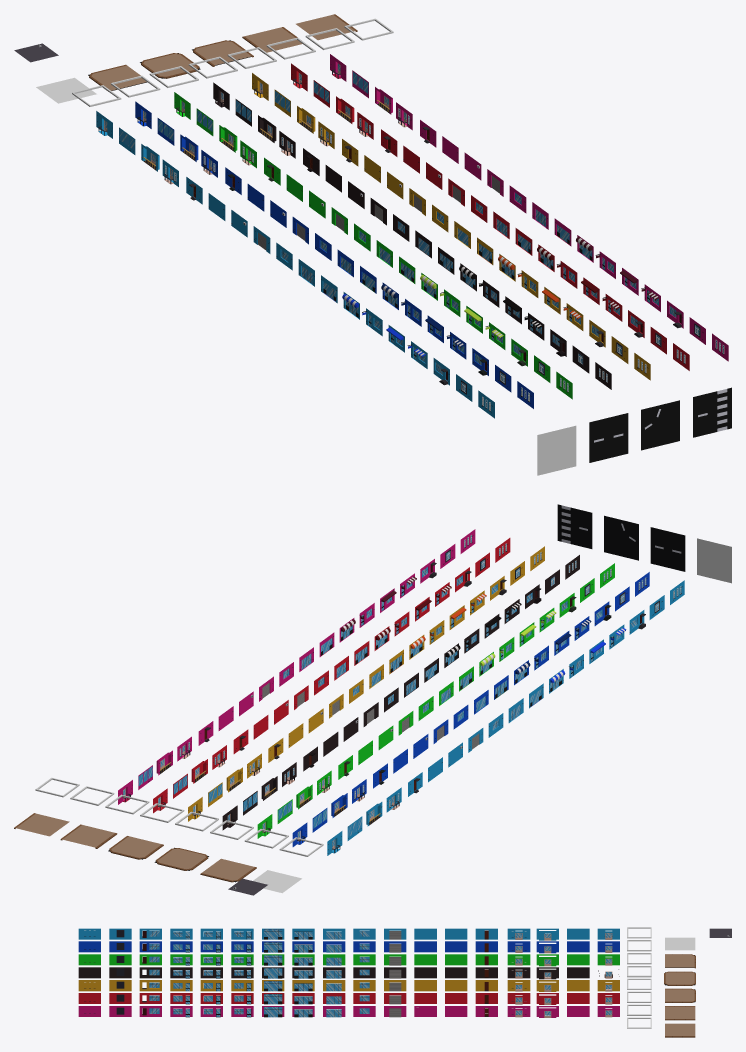
Rendered from city assets.FBX.
3 views of the same model, one above another, from view 1: azimuth 30°, elevation 25°; view 2: azimuth 150°, elevation 25°; view 3: azimuth 270°, elevation 25° (orthographic). The views are drawn at different scales.
Parts seen in each view (by area): view 1: Street_Straight, Street_Empty, Street_Turn, Street_CrossLine, CM_Pavement4, CM_Pavement3, CM_Pavement23, CM_Pavement22, CM_Pavement0, CM_Pavement11; view 2: Street_CrossLine, Street_Straight, Street_Empty, Street_Turn, CM_Pavement4, CM_Pavement3, CM_Pavement23, CM_Pavement22, CM_Pavement11, CM_Pavement0; view 3: CM_Pavement4, CM_Pavement11, CM_Pavement22, CM_Pavement3, CM_Pavement0, CM_Pavement23, CM_Wallside_Balcony02_Grey, CM_Wallside_Balcony03_Blue, CM_Wallside_Balcony03_Green, CM_Wallside_Balcony03_BlueGreen, CM_Wallside_Balcony03_Grey, CM_Wallside_Balcony03_Orange (+120 smaller).
Part boxes in pixels (left/top/right/bottom): Street_Straight: left=589, top=413, right=628, bottom=462; Street_Empty: left=537, top=425, right=576, bottom=475; Street_Turn: left=641, top=400, right=679, bottom=450; Street_CrossLine: left=693, top=387, right=731, bottom=437; CM_Pavement4: left=140, top=53, right=200, bottom=78; CM_Pavement3: left=192, top=40, right=253, bottom=66; CM_Pavement23: left=88, top=64, right=146, bottom=91; CM_Pavement22: left=242, top=27, right=302, bottom=52; CM_Pavement0: left=36, top=77, right=96, bottom=103; CM_Pavement11: left=296, top=14, right=357, bottom=40; Street_CrossLine: left=557, top=504, right=592, bottom=548; Street_Straight: left=650, top=527, right=685, bottom=571; Street_Empty: left=697, top=538, right=731, bottom=583; Street_Turn: left=604, top=515, right=638, bottom=560; CM_Pavement4: left=154, top=847, right=208, bottom=870; CM_Pavement3: left=108, top=836, right=163, bottom=859; CM_Pavement23: left=200, top=858, right=256, bottom=882; CM_Pavement22: left=60, top=824, right=117, bottom=848; CM_Pavement11: left=14, top=813, right=69, bottom=836; CM_Pavement0: left=253, top=870, right=301, bottom=893; CM_Pavement4: left=664, top=971, right=695, bottom=985; CM_Pavement11: left=665, top=1023, right=695, bottom=1037; CM_Pavement22: left=665, top=1006, right=695, bottom=1020; CM_Pavement3: left=665, top=988, right=695, bottom=1002; CM_Pavement0: left=665, top=937, right=695, bottom=950; CM_Pavement23: left=665, top=954, right=695, bottom=968; CM_Wallside_Balcony02_Grey: left=536, top=967, right=558, bottom=979; CM_Wallside_Balcony03_Blue: left=507, top=928, right=530, bottom=939; CM_Wallside_Balcony03_Green: left=507, top=954, right=530, bottom=965; CM_Wallside_Balcony03_BlueGreen: left=507, top=941, right=530, bottom=952; CM_Wallside_Balcony03_Grey: left=507, top=967, right=530, bottom=978; CM_Wallside_Balcony03_Orange: left=507, top=980, right=530, bottom=991.
Size of the model in its own units: 1867 by 236 by 5555.
